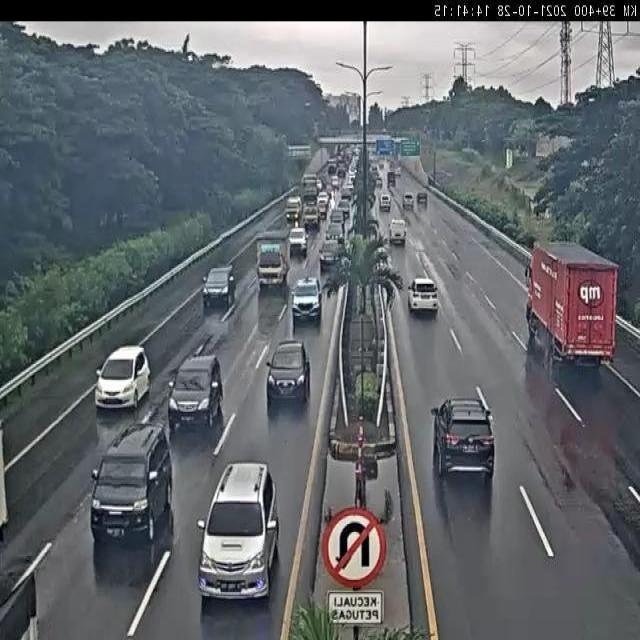Car: (195, 462, 278, 602), (89, 418, 173, 546), (430, 396, 498, 481), (169, 353, 225, 432), (96, 344, 152, 410), (265, 338, 311, 408), (290, 276, 323, 328), (202, 265, 236, 311), (407, 275, 439, 314), (318, 238, 342, 270), (288, 226, 309, 258), (325, 221, 345, 242), (328, 208, 347, 224), (336, 197, 351, 216), (317, 192, 329, 212), (380, 193, 391, 212), (415, 193, 428, 204)
Truck: (524, 240, 620, 377), (254, 232, 290, 291), (302, 202, 320, 231), (302, 173, 320, 199), (284, 196, 302, 221)
Van: (388, 219, 408, 245)
